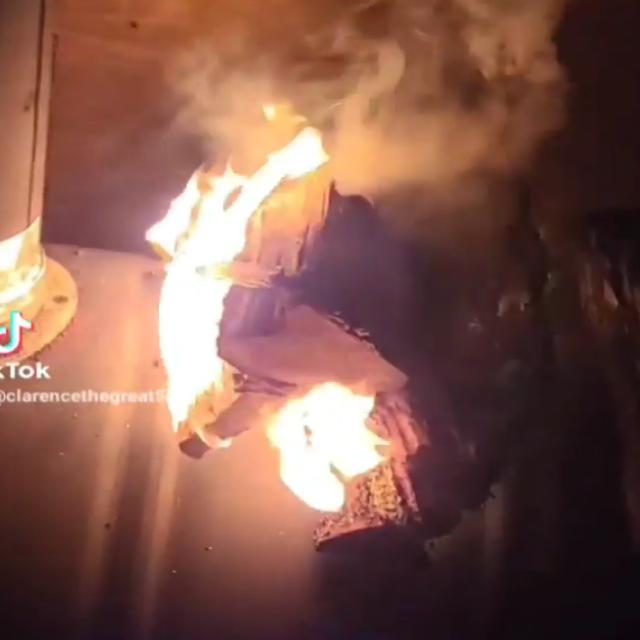fire: (144, 126, 327, 430), (268, 382, 389, 512), (0, 219, 46, 301)
